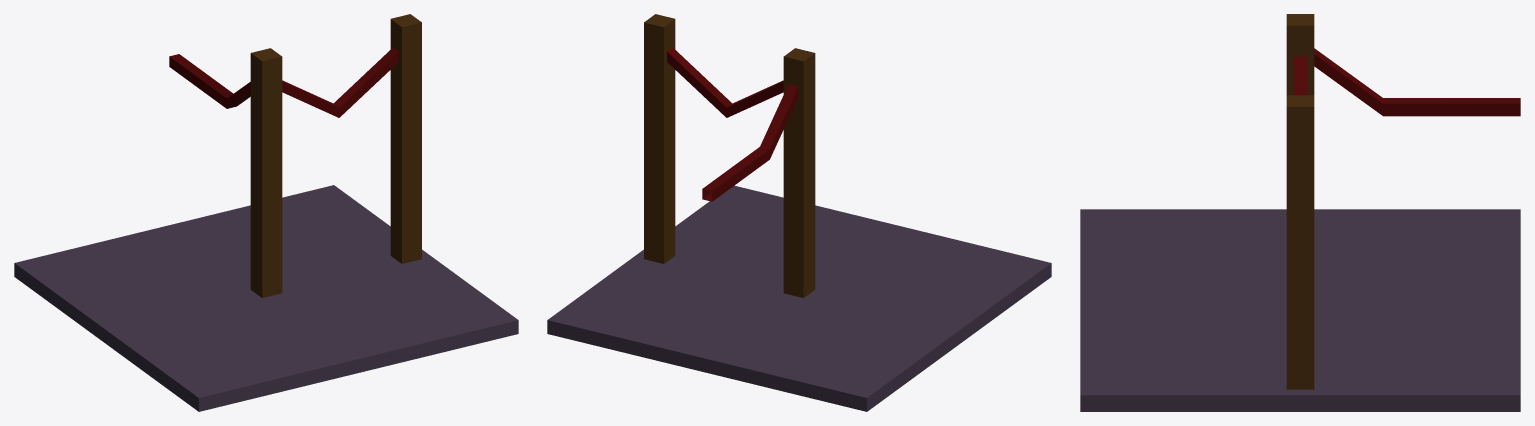
The model's file is decoration_redRope2.dae.
The picture shows the model from 3 angles, left to right: view 1: azimuth 30°, elevation 25°; view 2: azimuth 150°, elevation 25°; view 3: azimuth 270°, elevation 25°; orthographic projection. The views are drawn at different scales.
Visible parts, largest first — view 1: decoration_redRope2_MSH; view 2: decoration_redRope2_MSH; view 3: decoration_redRope2_MSH.
Part boxes in pixels (x1,y1,x2,y2): decoration_redRope2_MSH: (14, 14, 518, 411); decoration_redRope2_MSH: (547, 14, 1051, 411); decoration_redRope2_MSH: (1080, 14, 1520, 411).
Size of the model in its own units: 1 by 0.75 by 1.
